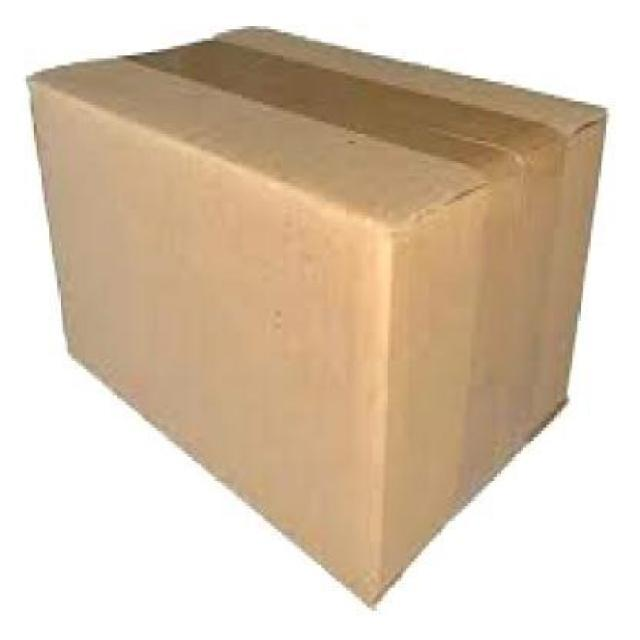-: (30, 21, 605, 605)
